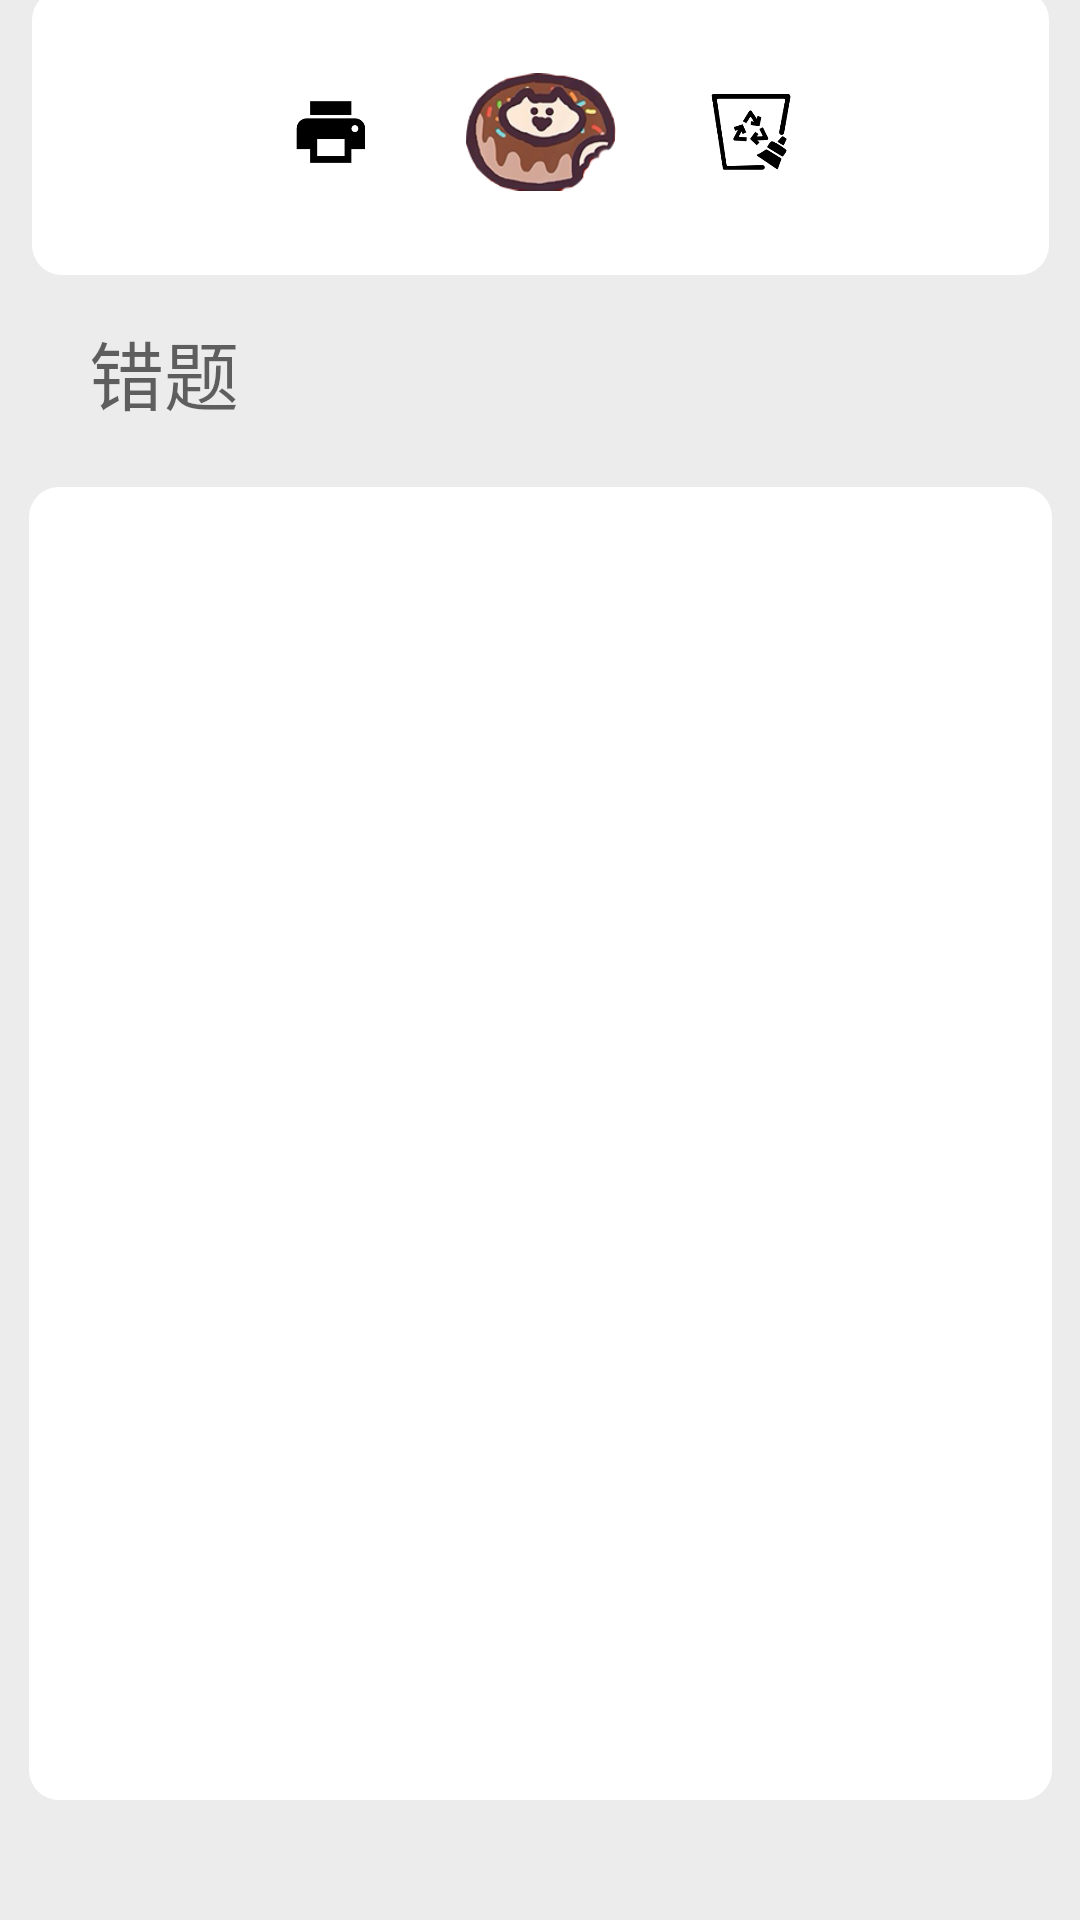

Icons on this 1080px x 1920px Android screen, each with its box as [x1,y1,x2,y2]:
clear: [711,94,791,170]
print: [296,101,365,163]
